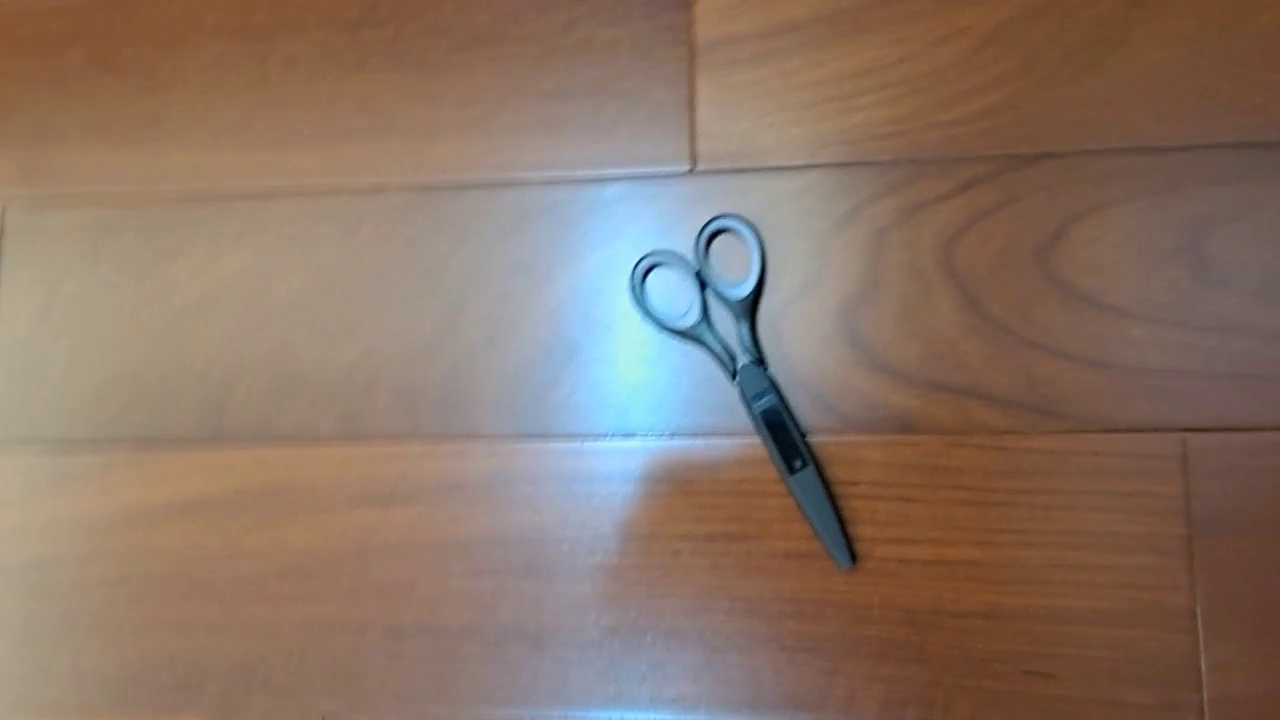scissors: (627, 212, 860, 575)
